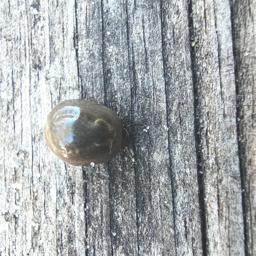Ixodes scapularis: (45, 104, 143, 164)
